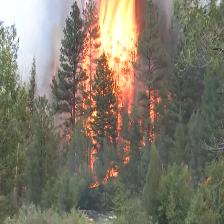fire: (100, 2, 135, 80)
